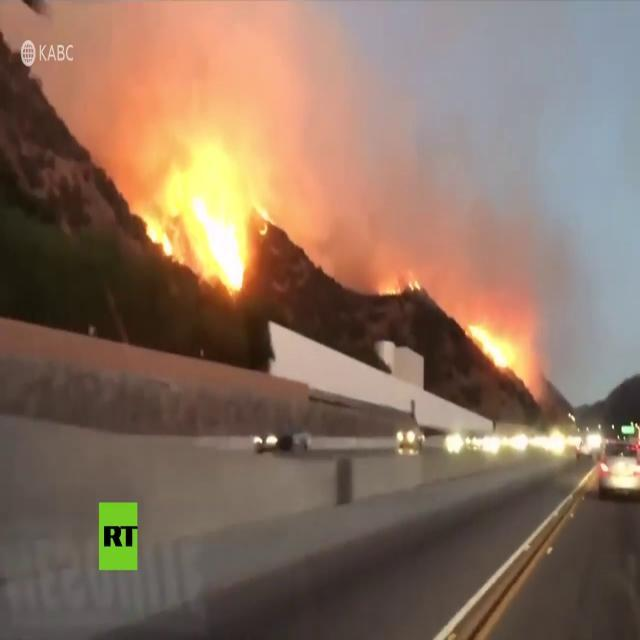Fire: (136, 132, 276, 305), (466, 324, 516, 369), (408, 276, 422, 292), (379, 285, 397, 296)
